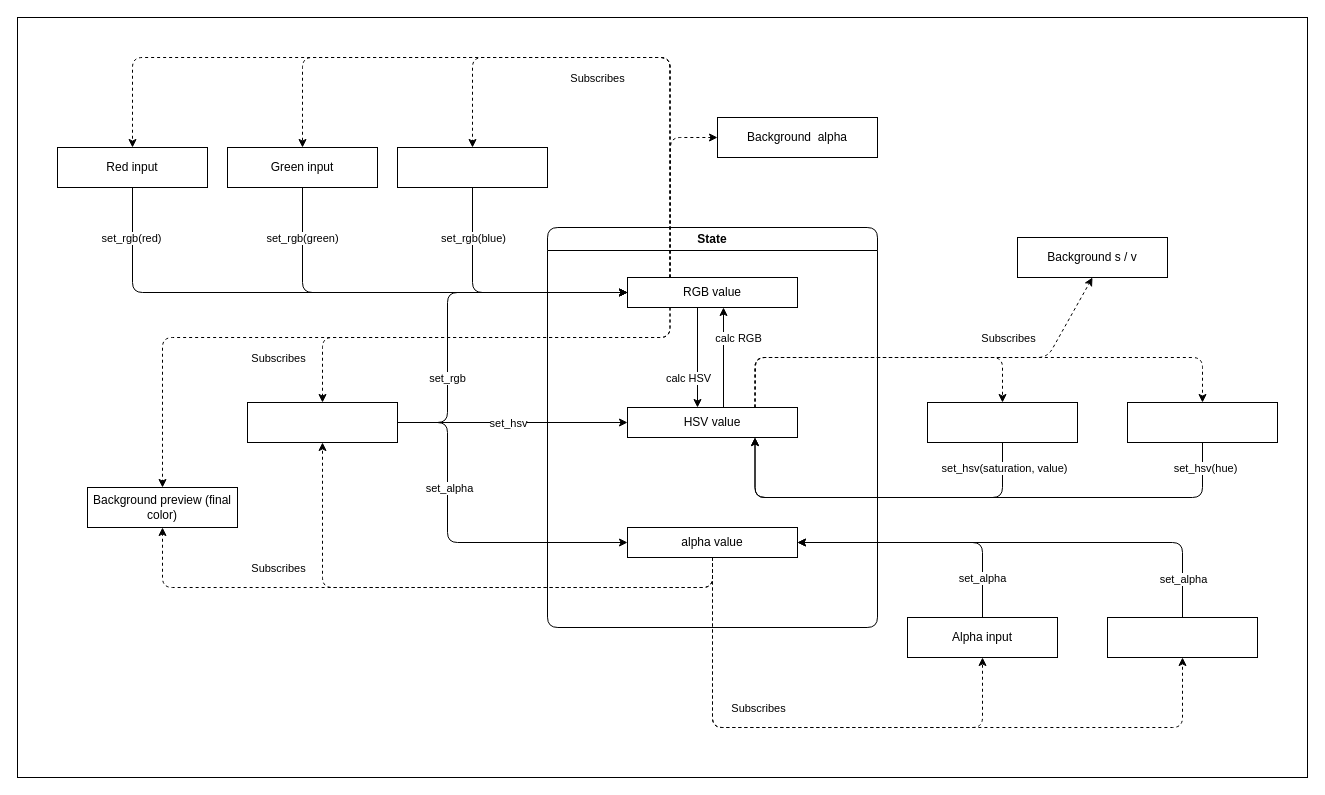
Image size: 1325x795. Some labels were removed from this diagram. The centre of each missing label's shape, as x and y in pixels:
Blue input: [472,167]
Hex input: [322,422]
Slider alpha: [1182,637]
Slider hue: [1202,422]
Slider s / v: [1002,422]
